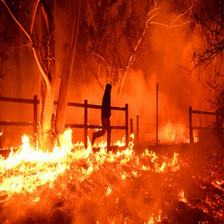fire: (2, 128, 161, 192)
